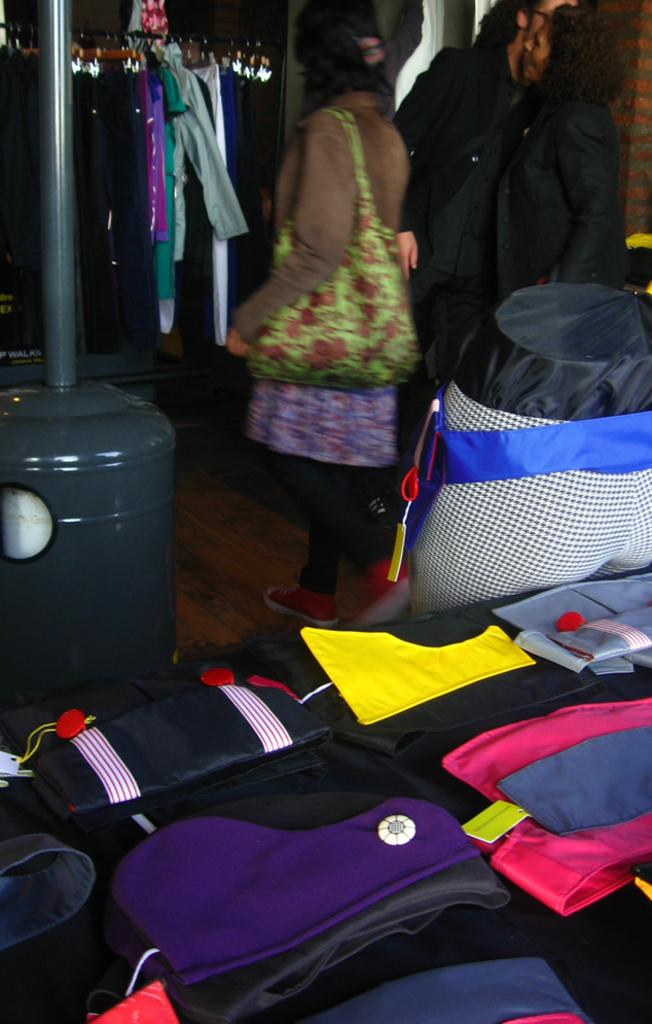Luggage-and-bags: (249, 107, 423, 397)
